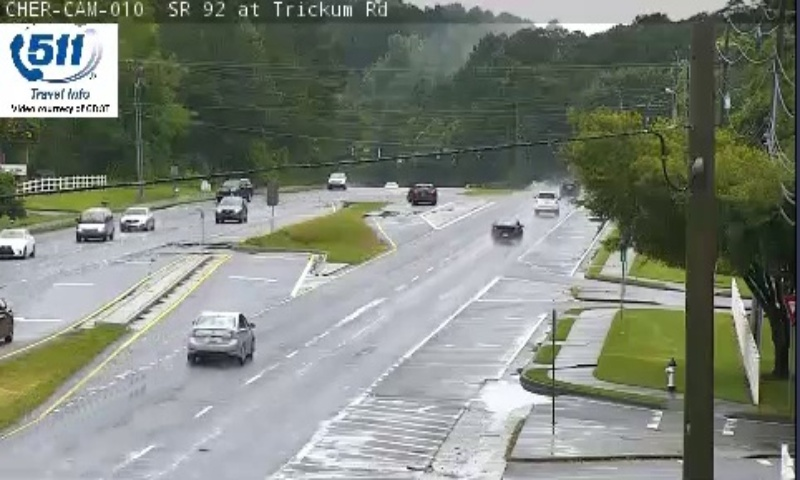car: (189, 312, 255, 353), (491, 217, 522, 246), (534, 191, 557, 212)
